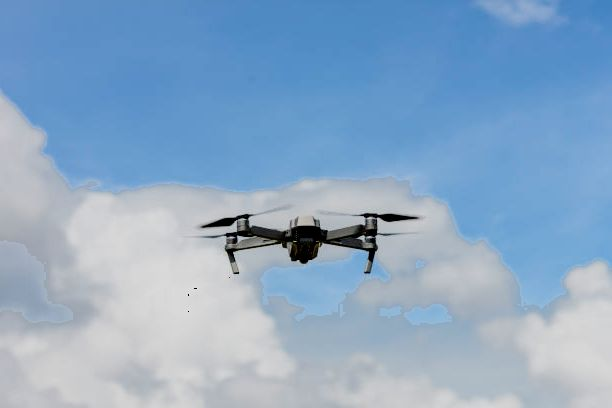Drone: (190, 200, 423, 277)
